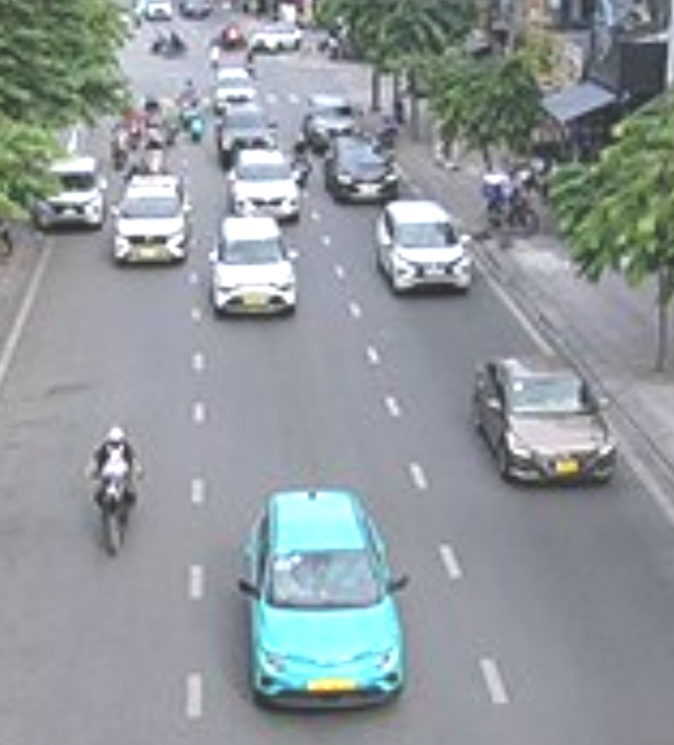car: (240, 487, 407, 712), (470, 352, 624, 490), (376, 201, 474, 298), (211, 213, 297, 322), (110, 172, 190, 267), (30, 152, 108, 233), (229, 150, 301, 219), (328, 138, 399, 204), (217, 106, 279, 150), (303, 93, 362, 137)
